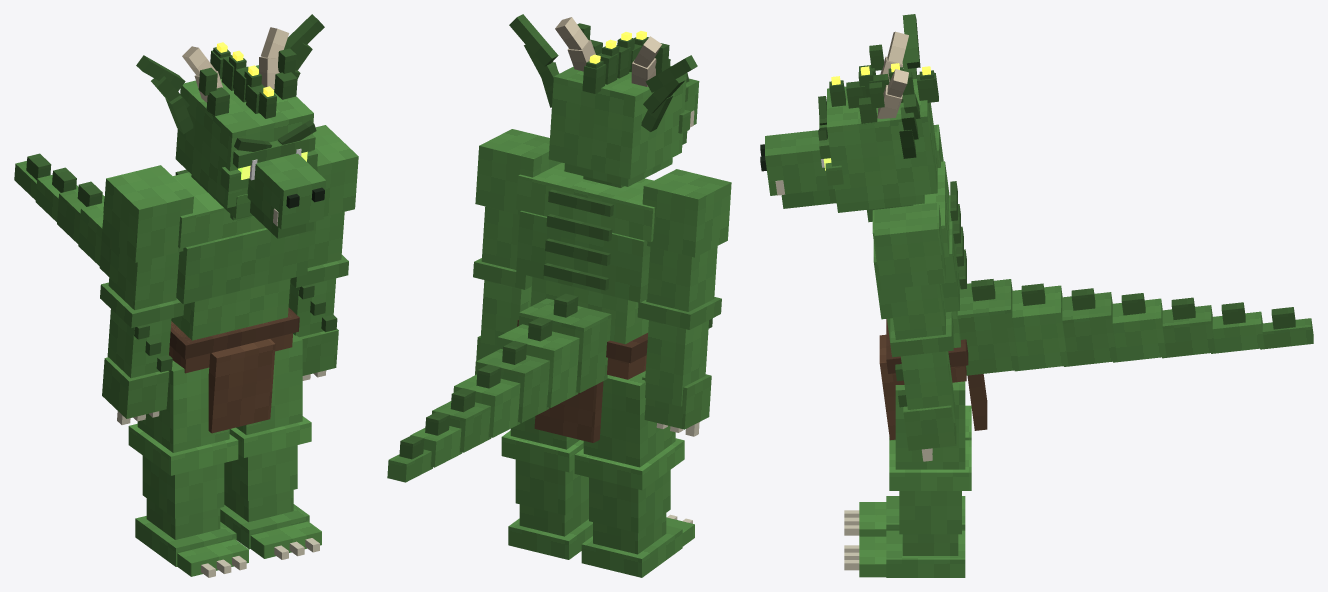
Rendered from lizard_base_v2_evo1.glb.
3 renders of one model, left to right at view 1: azimuth 30°, elevation 25°; view 2: azimuth 150°, elevation 25°; view 3: azimuth 270°, elevation 25°, orthographic. The views are drawn at different scales.
Parts seen in each view (by area): view 1: Torso, Head, ArmR, LegR, LegL, ArmL, Root; view 2: Torso, Head, ArmR, LegR, ArmL, LegL; view 3: Torso, Head, ArmL, LegL, LegR, Root.
Part boxes in pixels (x1,y1,x2,y2): Torso: (14,153,310,433); Head: (136,14,326,238); ArmR: (100,165,193,424); LegR: (128,360,248,576); LegL: (220,334,321,558); ArmL: (288,125,358,380); Root: (201,538,319,577); Torso: (387,162,655,482); Head: (509,14,699,187); ArmR: (637,169,731,436); LegR: (574,371,694,577); ArmL: (473,129,561,361); LegL: (501,416,592,559); Torso: (872,161,1313,440); Head: (760,14,938,222); ArmL: (874,203,956,461); LegL: (859,381,971,577); LegR: (859,405,971,536); Root: (844,510,859,570).
Bounding box in the file's own units: 0.78 × 1.73 × 1.75.
25 materials, 25 textured.
